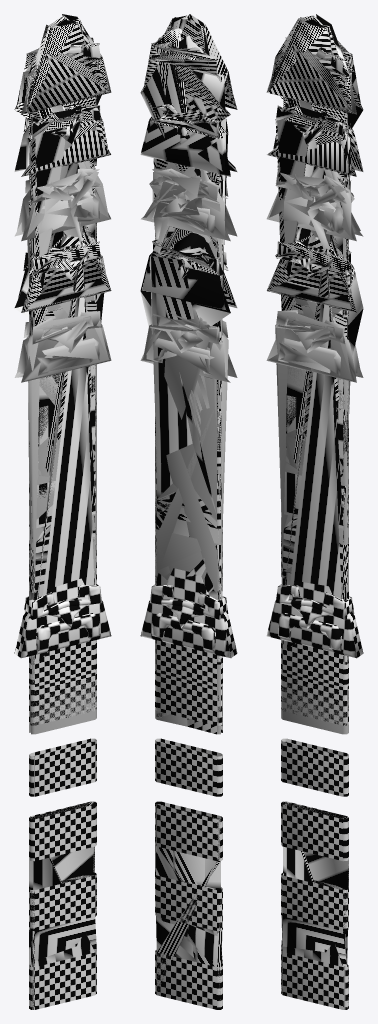
File: unmoco1.dae
The picture shows the model from 3 angles, left to right: view 1: azimuth 30°, elevation 25°; view 2: azimuth 150°, elevation 25°; view 3: azimuth 330°, elevation 25°; orthographic projection.
Parts seen in each view (by area): view 1: escmenu00, return2game, exit2mainmenu, save, load, options, coloumndetls; view 2: escmenu00, return2game, exit2mainmenu, options, save, load, coloumndetls, return2gamelabel, exit2mainmenulabel, optionslabel, loadlabel; view 3: escmenu00, return2game, exit2mainmenu, load, save, options, coloumndetls.
Part boxes in pixels (bbox=[...]): escmenu00: bbox=[14, 578, 111, 1009]; return2game: bbox=[14, 234, 111, 664]; exit2mainmenu: bbox=[14, 301, 111, 734]; save: bbox=[14, 14, 111, 462]; load: bbox=[14, 104, 111, 528]; options: bbox=[14, 160, 110, 592]; coloumndetls: bbox=[29, 801, 96, 1009]; escmenu00: bbox=[140, 568, 237, 1009]; return2game: bbox=[140, 226, 237, 664]; exit2mainmenu: bbox=[140, 309, 237, 734]; options: bbox=[141, 161, 237, 592]; save: bbox=[140, 14, 237, 466]; load: bbox=[140, 95, 237, 528]; coloumndetls: bbox=[155, 806, 222, 1009]; return2gamelabel: bbox=[155, 477, 222, 663]; exit2mainmenulabel: bbox=[156, 711, 222, 734]; optionslabel: bbox=[155, 466, 222, 592]; loadlabel: bbox=[156, 500, 216, 528]; escmenu00: bbox=[266, 581, 363, 1009]; return2game: bbox=[266, 234, 363, 664]; exit2mainmenu: bbox=[266, 301, 363, 734]; load: bbox=[267, 104, 363, 528]; save: bbox=[266, 14, 363, 465]; options: bbox=[266, 169, 363, 592]; coloumndetls: bbox=[281, 801, 348, 1008].
Size of the model in its own units: 0.5756 by 0.1936 by 6.
Materials: 2 (1 with a texture image).
